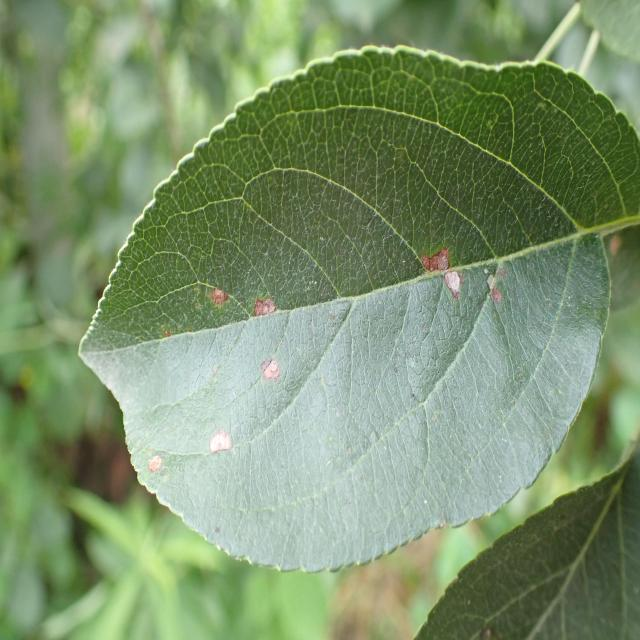Black Rot: (415, 219, 480, 334), (476, 256, 532, 316), (232, 275, 284, 333), (132, 426, 166, 506), (204, 422, 252, 473), (207, 248, 232, 334), (252, 364, 290, 400)
